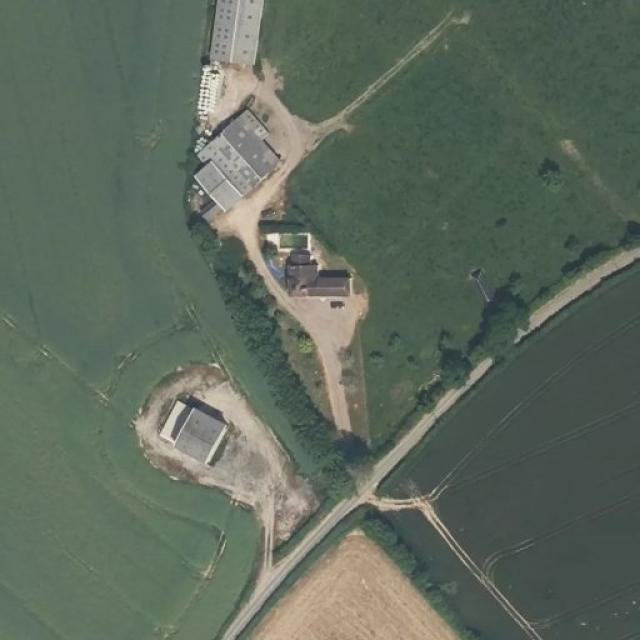ferme: (159, 391, 232, 472), (206, 0, 270, 74), (473, 268, 498, 302)
maison: (190, 91, 280, 220), (288, 258, 354, 298)
